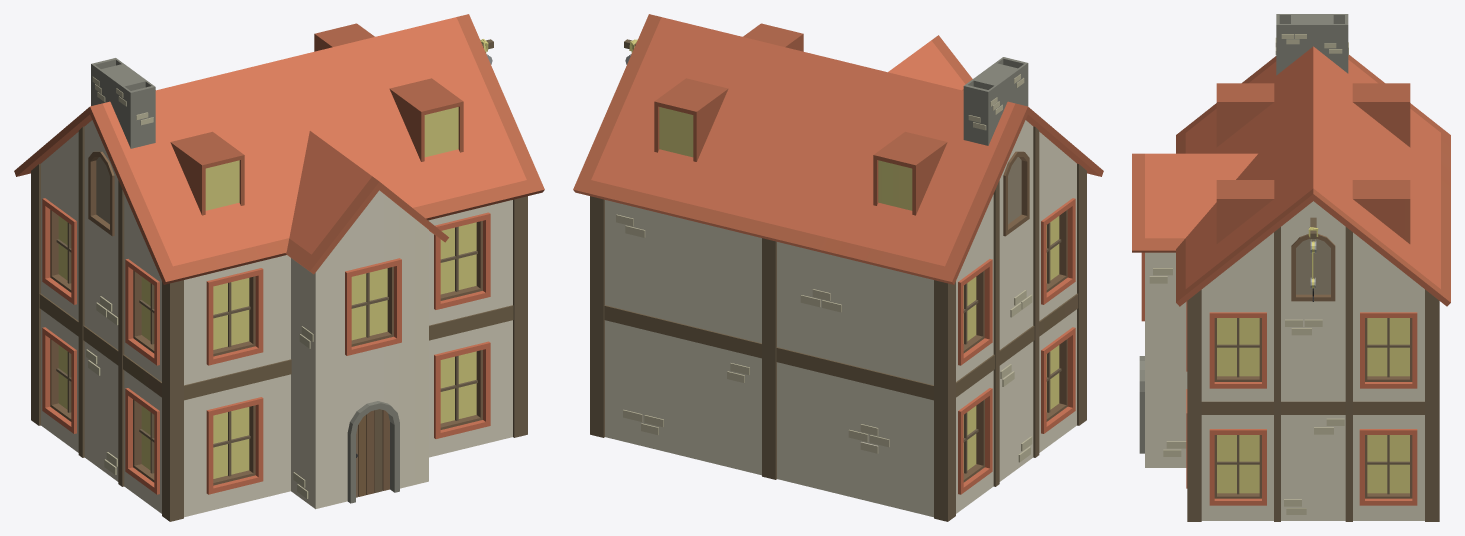
The model's file is House_11.fbx.
3 renders of one model, left to right at view 1: azimuth 30°, elevation 25°; view 2: azimuth 150°, elevation 25°; view 3: azimuth 270°, elevation 25°, orthographic. The views are drawn at different scales.
Parts seen in each view (by area): view 1: House_11; view 2: House_11; view 3: House_11.
Boxes of the visible parts, x1,y1,x2,y2 form: House_11: (14, 14, 544, 521); House_11: (573, 14, 1103, 521); House_11: (1132, 14, 1450, 521).
Bounding box in the file's own units: 164 × 152 × 124.
1 material, 1 textured.
